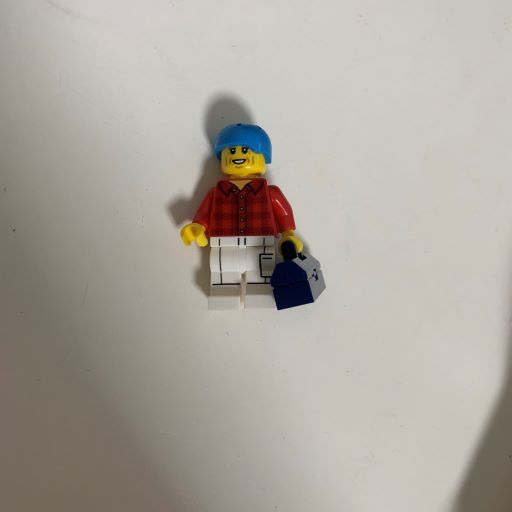human: (171, 119, 329, 324)
